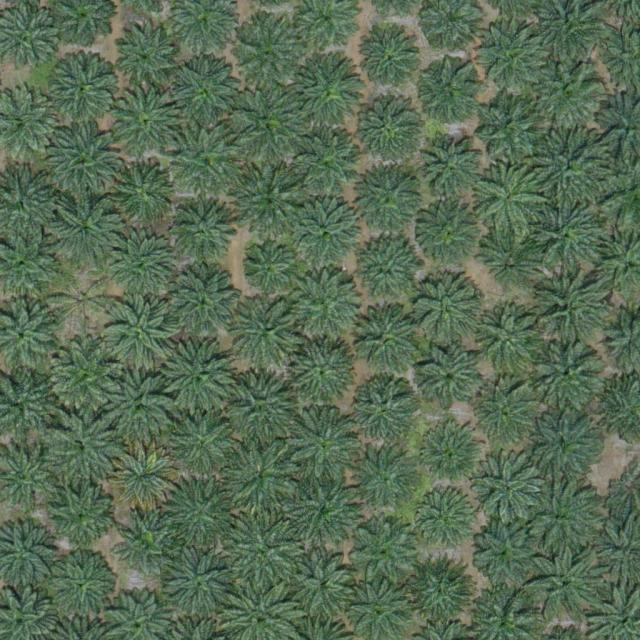Healthy: (531, 131, 609, 210), (286, 129, 364, 208), (232, 164, 310, 243), (521, 481, 599, 560), (527, 541, 605, 620), (222, 440, 300, 519), (226, 514, 304, 593), (527, 269, 605, 347), (232, 20, 303, 91), (414, 202, 485, 273), (291, 338, 362, 409), (232, 297, 303, 368), (286, 410, 357, 481), (289, 550, 360, 621), (290, 476, 361, 547), (169, 268, 240, 339), (290, 56, 360, 127), (172, 55, 242, 126), (115, 24, 186, 94), (49, 52, 119, 123), (532, 59, 602, 130), (535, 341, 605, 412), (477, 96, 547, 167), (475, 309, 545, 380), (411, 279, 482, 349), (353, 96, 423, 167), (352, 240, 422, 311), (291, 200, 361, 271), (233, 89, 303, 160), (529, 406, 599, 477), (406, 555, 476, 626), (347, 515, 417, 586), (162, 340, 232, 411), (169, 409, 239, 480), (163, 477, 233, 548), (50, 125, 120, 196), (51, 194, 121, 265), (50, 341, 120, 412), (105, 295, 175, 366), (109, 235, 179, 306), (110, 86, 180, 157), (171, 124, 242, 194), (47, 415, 118, 485), (45, 480, 115, 551), (479, 22, 549, 92), (533, 200, 603, 270), (354, 167, 424, 237), (351, 308, 421, 378), (290, 270, 360, 340), (472, 454, 542, 524), (224, 375, 294, 445), (163, 547, 233, 617), (104, 372, 174, 442), (482, 228, 545, 291), (417, 345, 480, 408), (479, 169, 541, 232), (475, 383, 537, 446), (416, 63, 478, 126), (423, 136, 485, 199), (417, 424, 480, 486), (415, 490, 477, 553), (355, 448, 418, 510), (111, 162, 173, 225), (51, 556, 113, 619), (362, 31, 424, 93), (352, 379, 414, 441), (477, 521, 539, 583), (173, 199, 235, 261), (120, 516, 174, 572), (244, 246, 291, 294)
Yellow: (109, 444, 179, 515), (52, 271, 114, 334)
